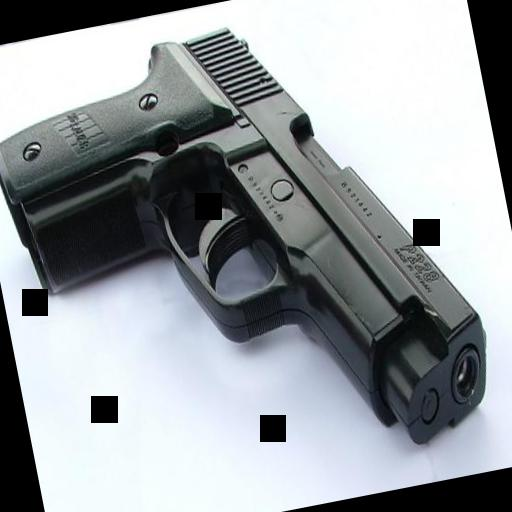Handgun: (0, 0, 505, 508)
